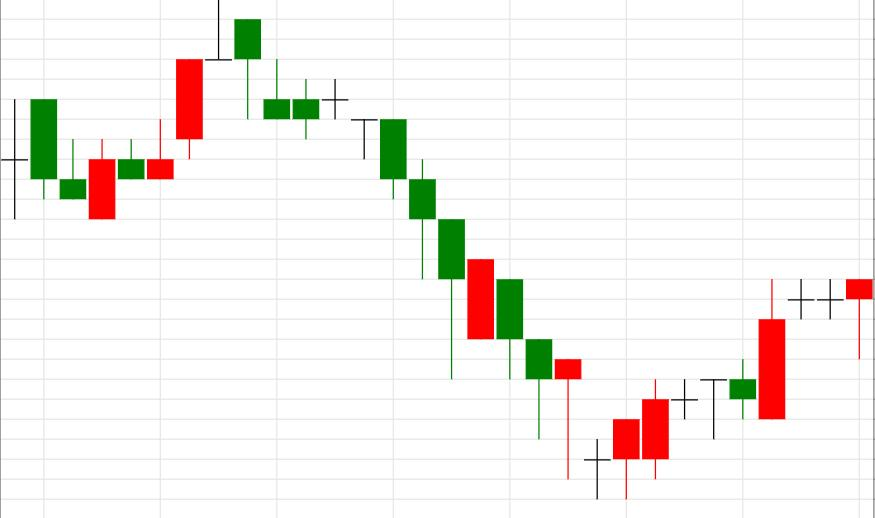hammer_rise: (322, 78, 552, 438)
three_white_soldiers_rise: (88, 0, 261, 220)
